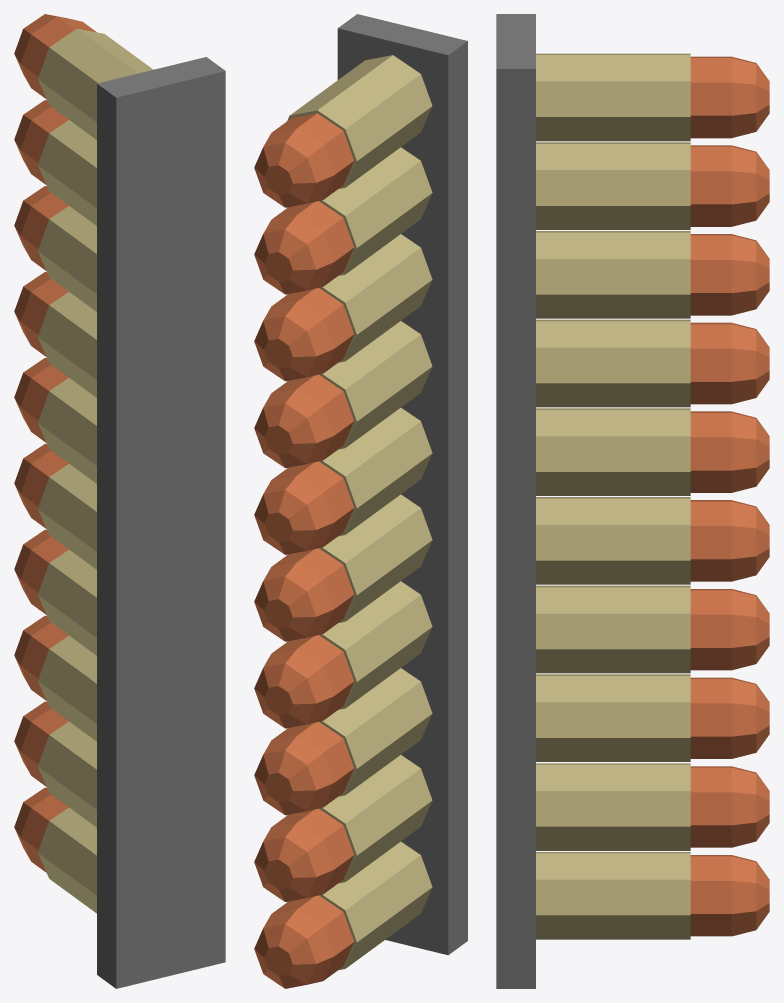
The model's file is CLP-9mm.fbx.
3 views of the same model, side by side, from view 1: azimuth 30°, elevation 25°; view 2: azimuth 150°, elevation 25°; view 3: azimuth 270°, elevation 25° (orthographic). The views are drawn at different scales.
Parts seen in each view (by area): view 1: Cube.003; view 2: Cube.003; view 3: Cube.003.
Boxes of the visible parts, left/top/right/bottom form: Cube.003: left=14, top=14, right=225, bottom=988; Cube.003: left=254, top=14, right=467, bottom=988; Cube.003: left=496, top=14, right=769, bottom=988.
Bounding box in the file's own units: 36 × 280 × 75.48.
